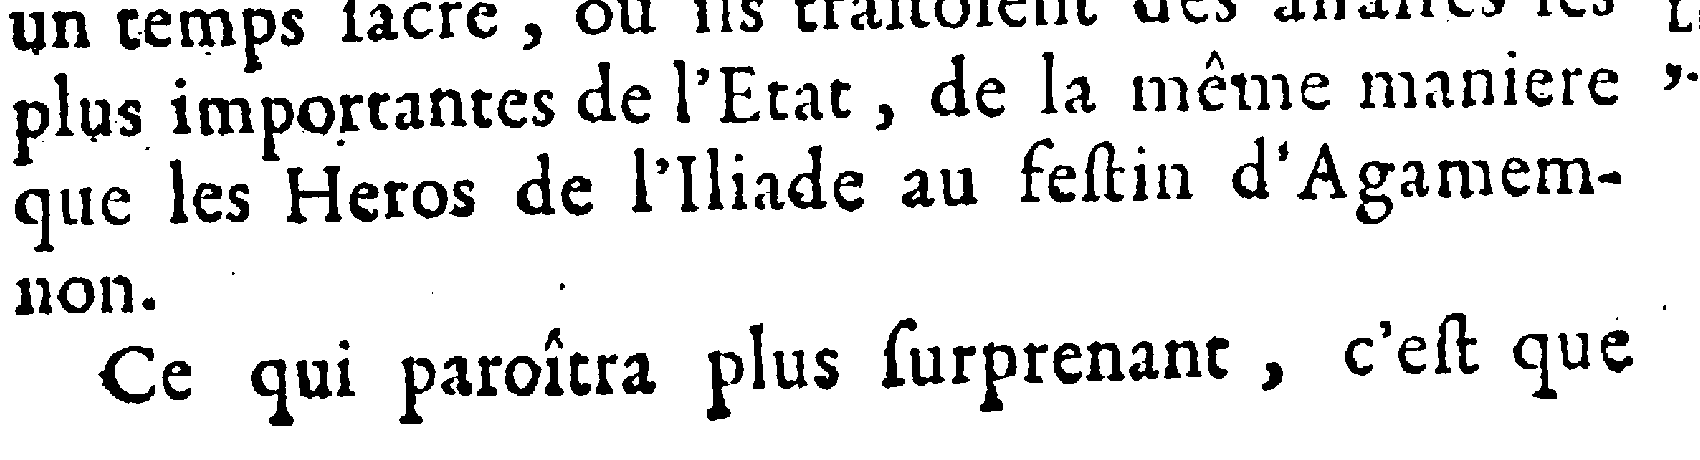e: (556, 170, 600, 216), (1597, 325, 1638, 372), (973, 72, 1010, 122), (493, 85, 533, 129), (159, 356, 195, 405), (830, 174, 872, 215), (347, 187, 387, 228), (1495, 157, 1534, 200), (190, 179, 226, 223), (100, 182, 136, 226), (143, 8, 177, 52), (1051, 341, 1084, 385), (1044, 162, 1080, 203), (1398, 329, 1429, 374), (465, 3, 502, 39), (1527, 67, 1557, 111), (620, 84, 654, 123)
st: (1085, 141, 1128, 210)
